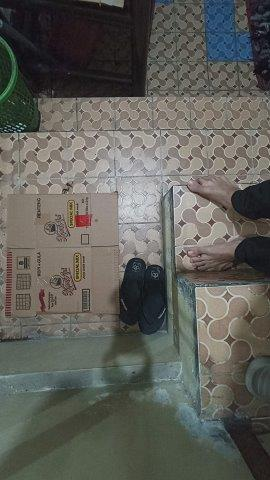kardus: (7, 194, 119, 316)
